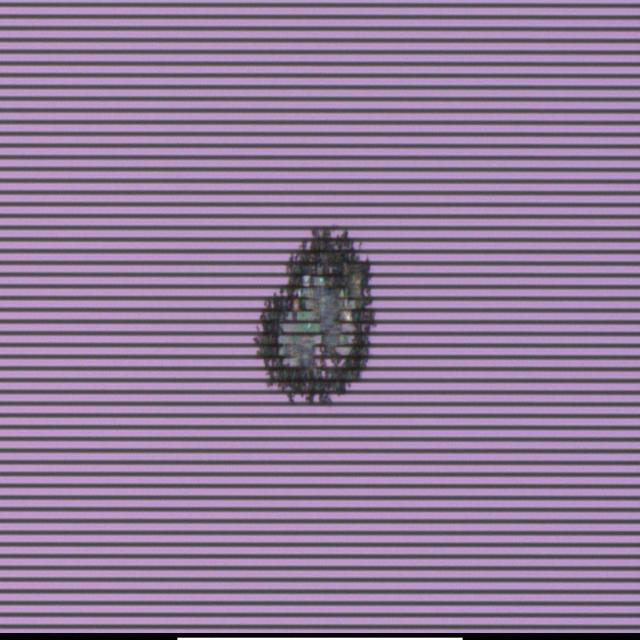03_intrusion: (254, 225, 378, 406)
